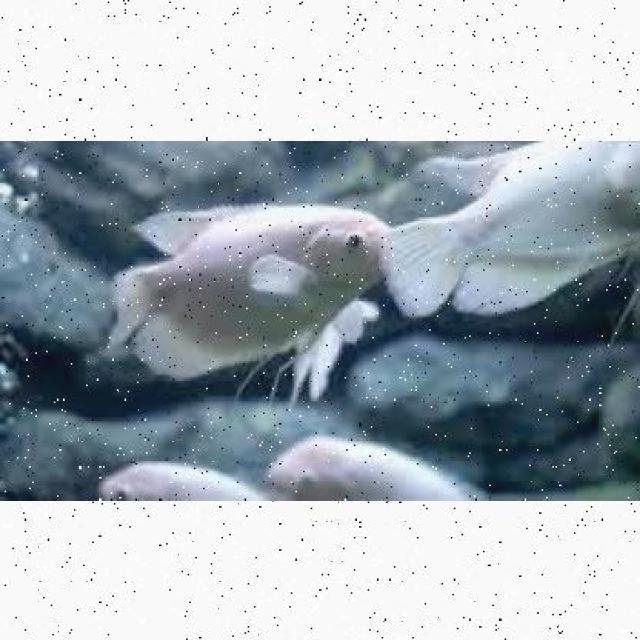gurame: (119, 201, 398, 377)
